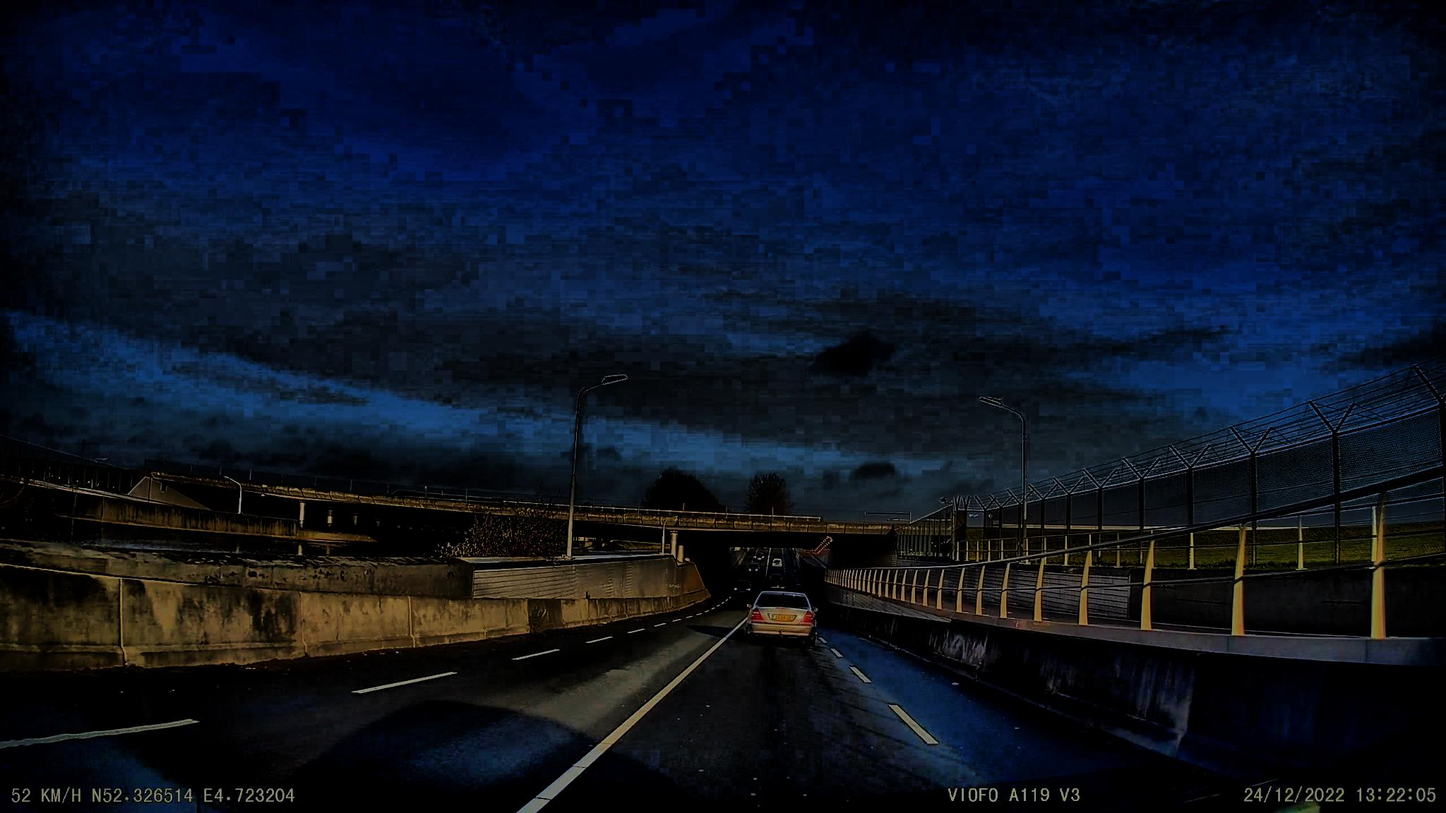Roads: (0, 611, 1244, 813)
